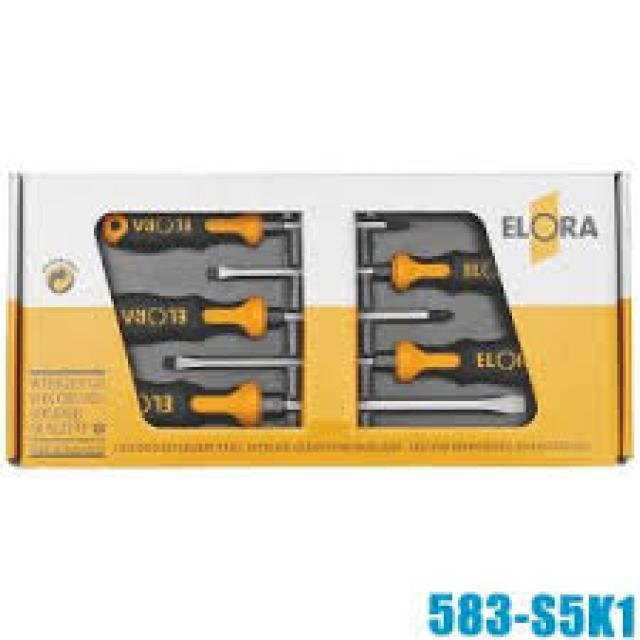screwdriver: (133, 376, 534, 432), (158, 330, 542, 387), (92, 288, 466, 342), (101, 202, 420, 256), (196, 246, 515, 294)
